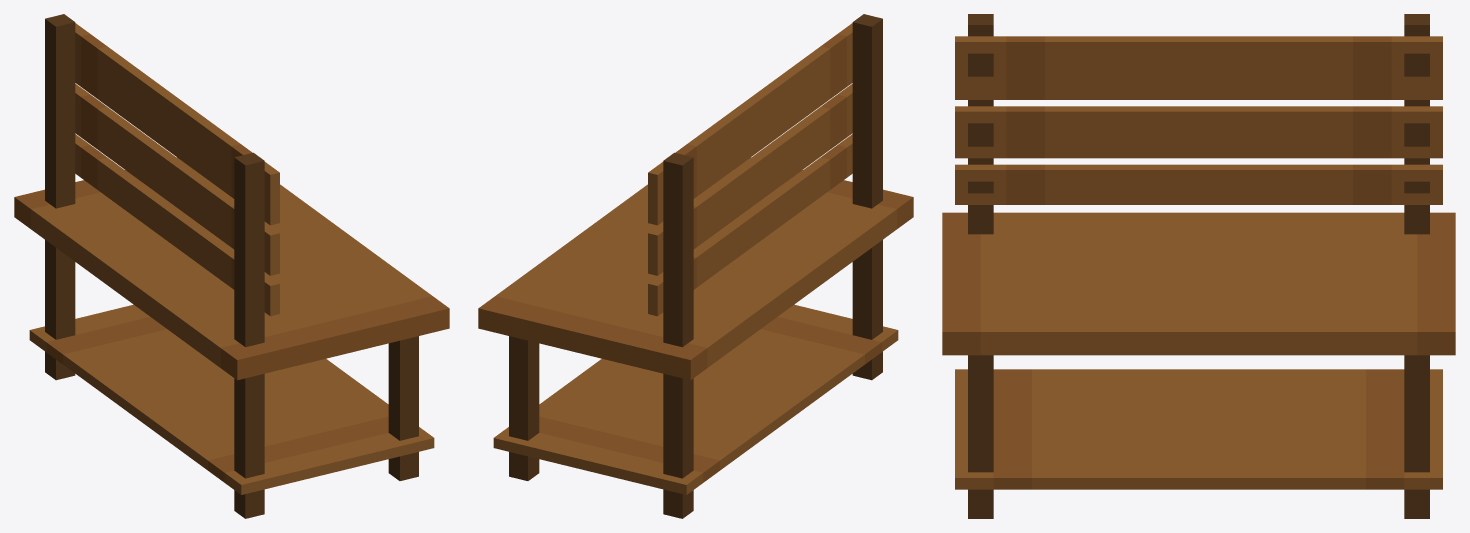
Rendered from Workbench.fbx.
3 views of the same model, side by side, from view 1: azimuth 30°, elevation 25°; view 2: azimuth 150°, elevation 25°; view 3: azimuth 270°, elevation 25° (orthographic). The views are drawn at different scales.
Visible parts, largest first — view 1: Workbench; view 2: Workbench; view 3: Workbench.
Part boxes in pixels (<box>): Workbench: <box>14,14,449,518</box>; Workbench: <box>478,14,913,518</box>; Workbench: <box>942,14,1455,518</box>.
Size of the model in its own units: 1.05 by 0.5792 by 0.9214.
1 material, 1 textured.
